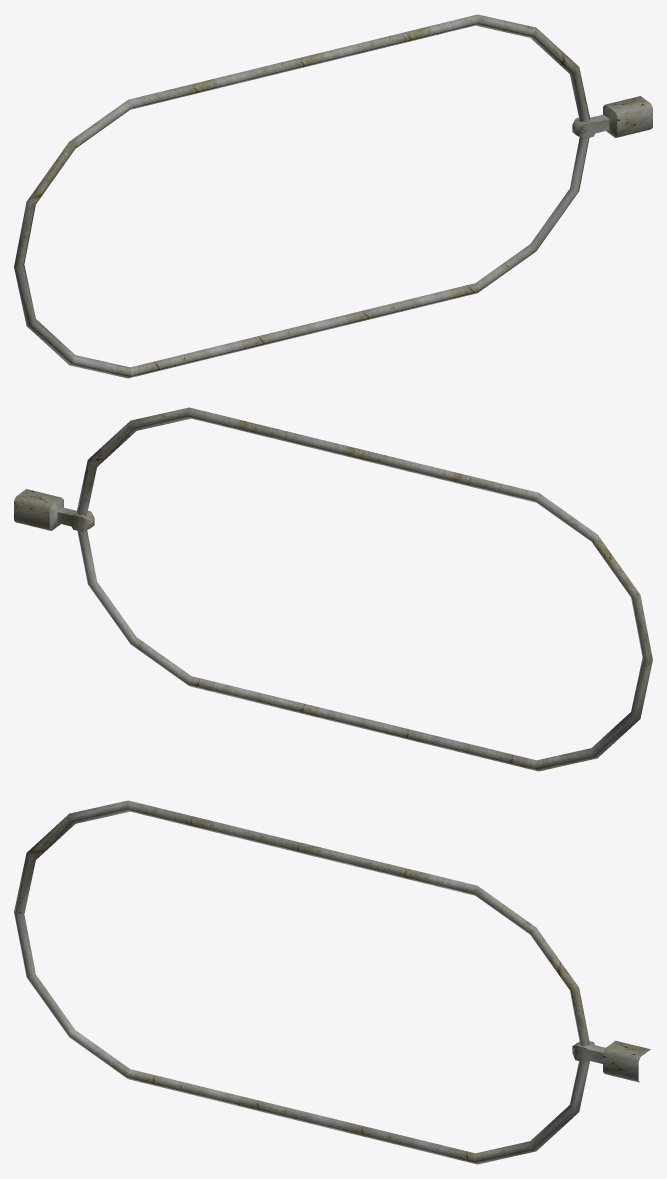
File: furniture_frenchbathcurtainrail.glb
3 renders of one model, top to bottom at view 1: azimuth 30°, elevation 25°; view 2: azimuth 150°, elevation 25°; view 3: azimuth 330°, elevation 25°, orthographic.
Bounding box in the file's own units: 97.71 × 41.2 × 3.81.
1 material, 1 textured.
